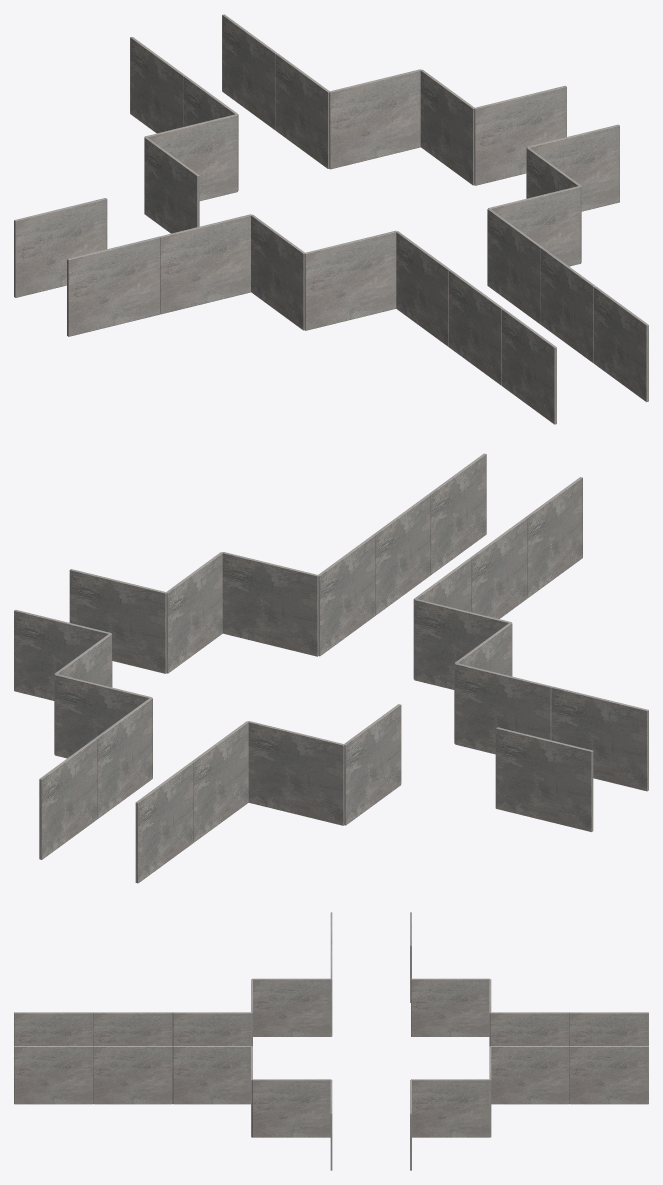
The model's file is FirstFloor_Lobby_Wall.fbx.
3 views of the same model, one above another, from view 1: azimuth 30°, elevation 25°; view 2: azimuth 150°, elevation 25°; view 3: azimuth 270°, elevation 25° (orthographic). The views are drawn at different scales.
Parts seen in each view (by area): view 1: FirstFloor_Lobby_Wall; view 2: FirstFloor_Lobby_Wall; view 3: FirstFloor_Lobby_Wall.
Part boxes in pixels (<box>): FirstFloor_Lobby_Wall: <box>14,14,648,424</box>; FirstFloor_Lobby_Wall: <box>14,453,648,883</box>; FirstFloor_Lobby_Wall: <box>14,912,648,1170</box>.
Size of the model in its own units: 6000 by 800 by 8000.
1 material, 1 textured.
